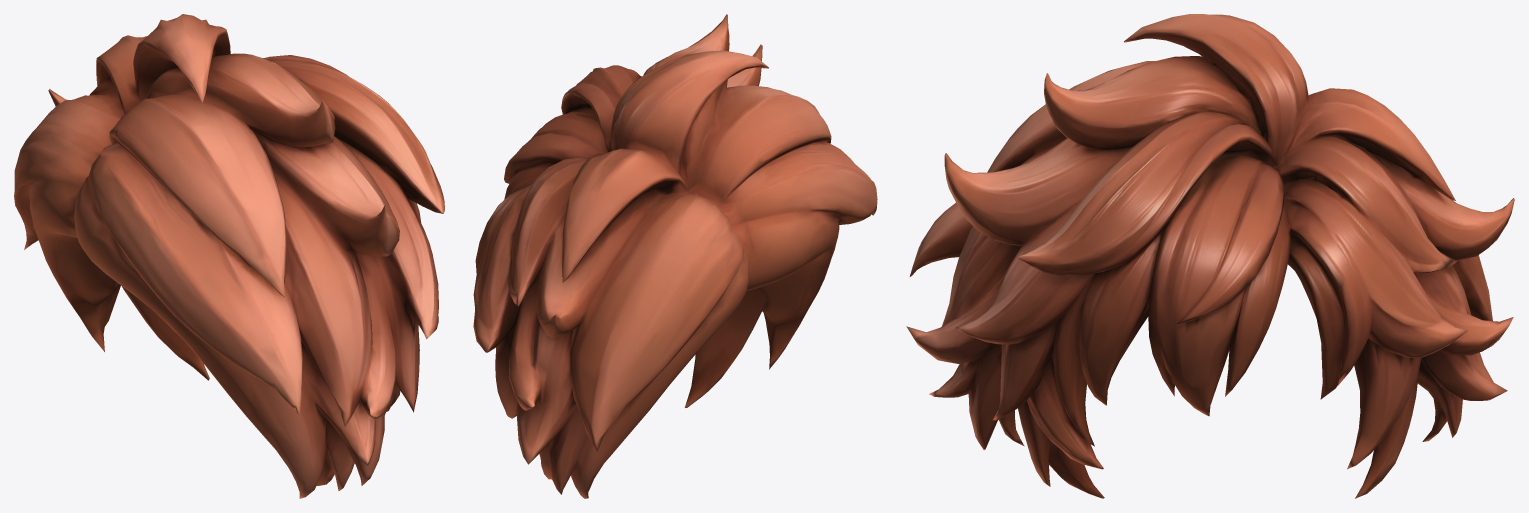
Rendered from Male_Hair_01_V1.glb.
The picture shows the model from 3 angles, left to right: view 1: azimuth 30°, elevation 25°; view 2: azimuth 150°, elevation 25°; view 3: azimuth 270°, elevation 25°; orthographic projection. The views are drawn at different scales.
Visible parts, largest first — view 1: tripo_node_7849b07b-a2df-4c6a-b146-9fb91839777b; view 2: tripo_node_7849b07b-a2df-4c6a-b146-9fb91839777b; view 3: tripo_node_7849b07b-a2df-4c6a-b146-9fb91839777b.
Part boxes in pixels (box(x1,y1,x2,y2)): tripo_node_7849b07b-a2df-4c6a-b146-9fb91839777b: box(14, 14, 444, 498); tripo_node_7849b07b-a2df-4c6a-b146-9fb91839777b: box(473, 14, 877, 498); tripo_node_7849b07b-a2df-4c6a-b146-9fb91839777b: box(906, 14, 1514, 498).
Bounding box in the file's own units: 0.6034 × 0.7938 × 0.9823.
Materials: 1 (1 with a texture image).
